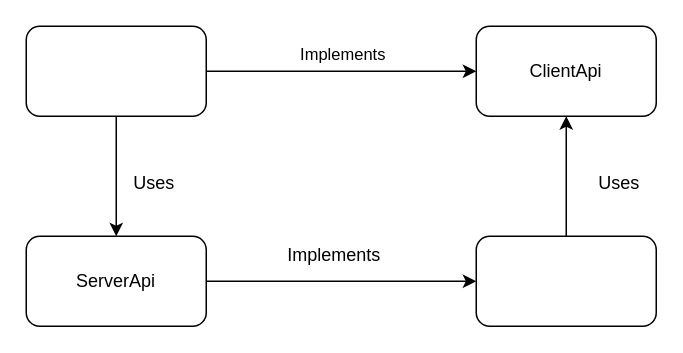
This 683x353 diagram has some shape labels left out. The centre of each missing label's shape, as x and y in pixels:
"Client" goes at point 115,70.
"GameEngine" goes at point 565,280.
